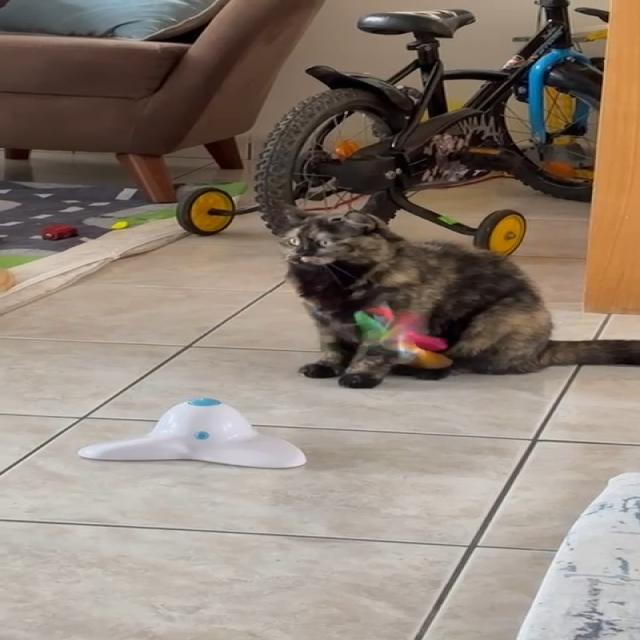authorized: (274, 205, 638, 389)
